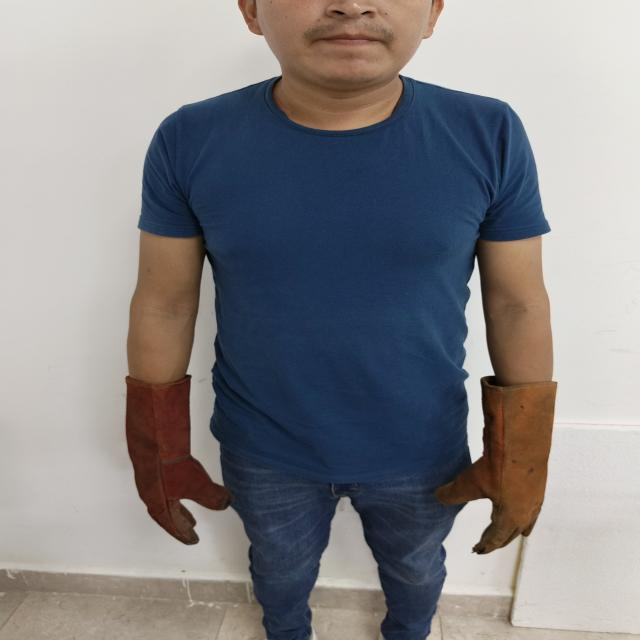gloves: (435, 376, 557, 554), (126, 375, 233, 545)
